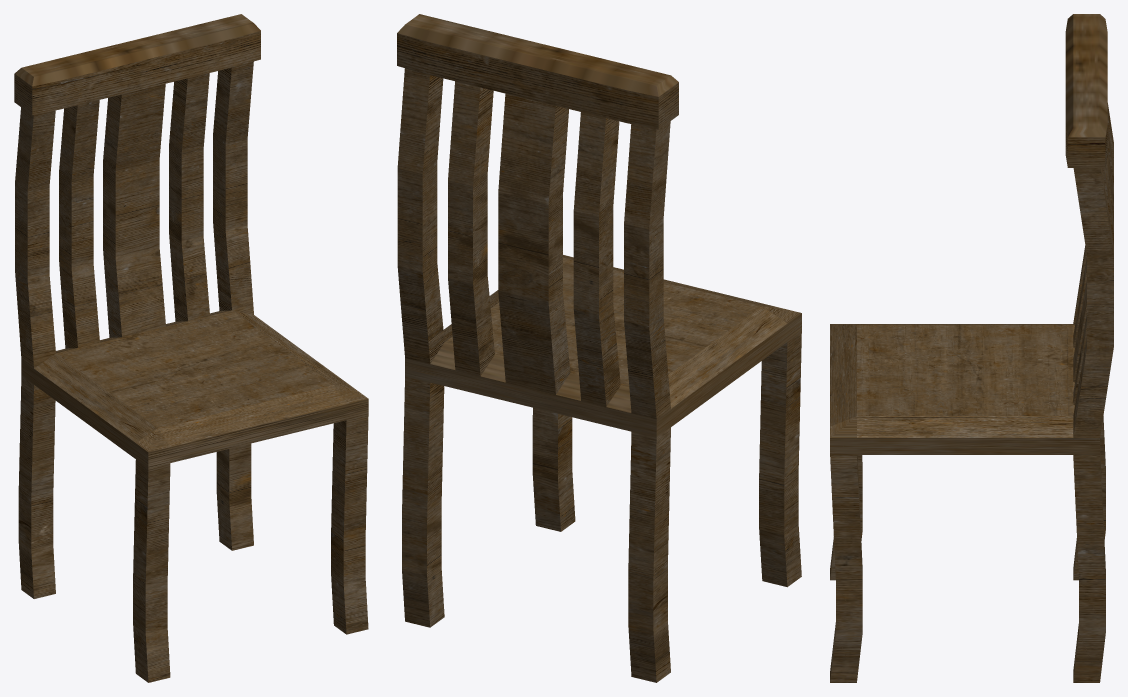
The model's file is Sisha.fbx.
The picture shows the model from 3 angles, left to right: view 1: azimuth 30°, elevation 25°; view 2: azimuth 150°, elevation 25°; view 3: azimuth 270°, elevation 25°; orthographic projection. The views are drawn at different scales.
Parts seen in each view (by area): view 1: Cube; view 2: Cube; view 3: Cube.
Part boxes in pixels (<box>): Cube: <box>14,14,368,682</box>; Cube: <box>397,14,801,682</box>; Cube: <box>830,14,1113,682</box>.
Bounding box in the file's own units: 530 × 1156 × 536.
